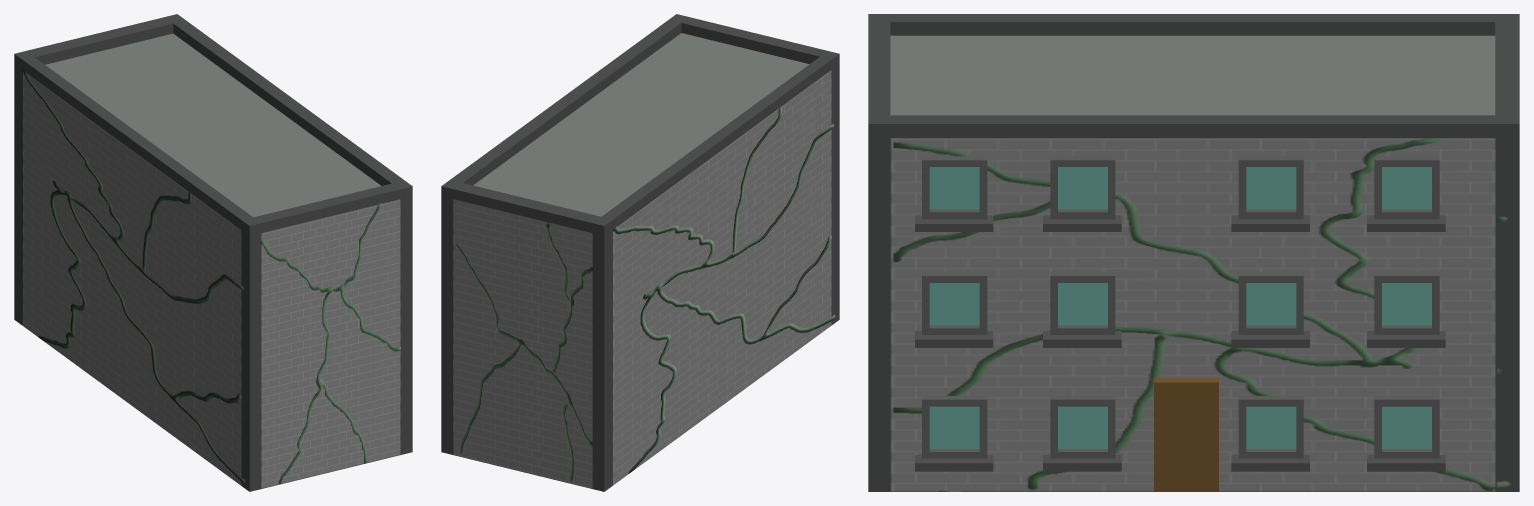
Rendered from ShortApartmentgrey.fbx.
3 renders of one model, left to right at view 1: azimuth 30°, elevation 25°; view 2: azimuth 150°, elevation 25°; view 3: azimuth 270°, elevation 25°, orthographic. The views are drawn at different scales.
Parts seen in each view (by area): view 1: polySurface178; view 2: polySurface178; view 3: polySurface178.
Boxes of the visible parts, x1,y1,x2,y2 form: polySurface178: [14, 14, 412, 491]; polySurface178: [441, 14, 839, 491]; polySurface178: [868, 14, 1519, 491].
Bounding box in the file's own units: 4.31 × 6.23 × 10.
